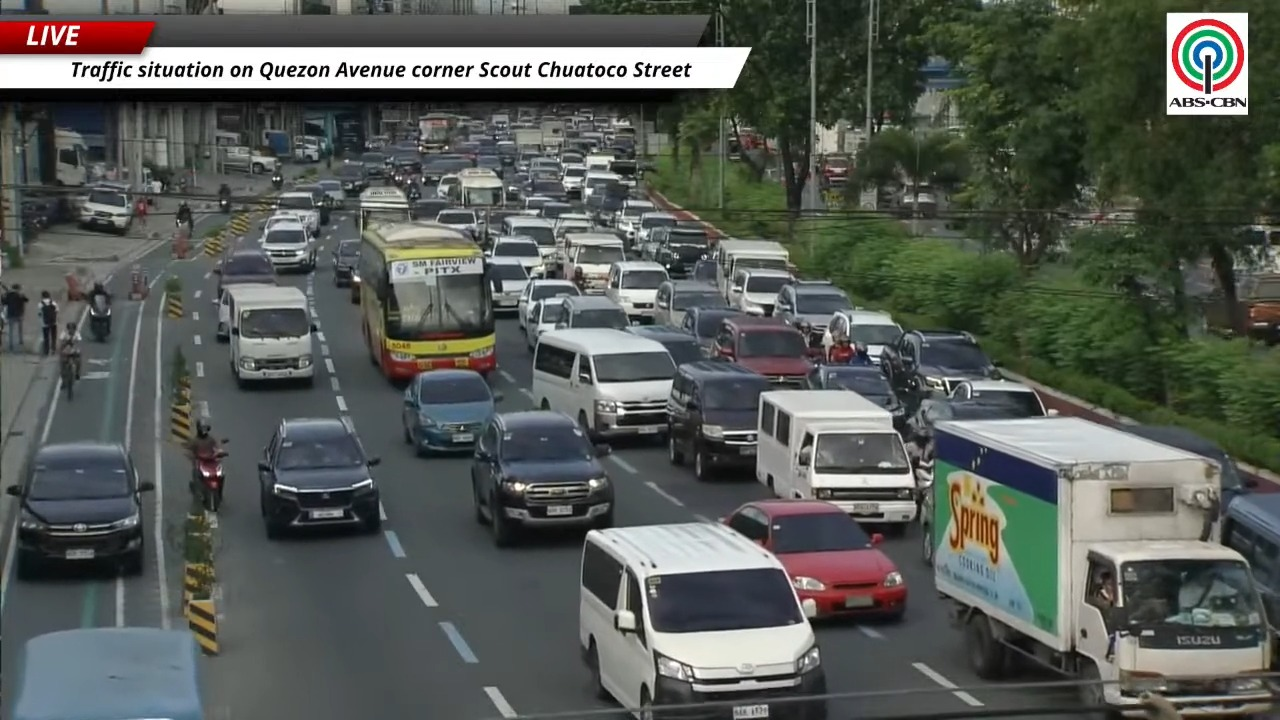bus: (359, 220, 495, 381), (453, 168, 505, 245), (356, 186, 413, 233), (457, 168, 504, 210), (419, 112, 458, 153)
car: (723, 499, 906, 619), (6, 442, 153, 578), (470, 410, 613, 546), (258, 417, 380, 539), (667, 360, 772, 480), (1117, 424, 1257, 505), (402, 369, 500, 454), (880, 330, 1001, 394), (714, 314, 811, 388), (806, 365, 906, 432), (904, 397, 1026, 447), (773, 280, 853, 346), (822, 308, 902, 362), (949, 380, 1056, 416), (212, 249, 276, 304), (654, 279, 725, 326), (680, 306, 743, 357), (624, 325, 704, 365), (517, 279, 581, 328), (726, 267, 791, 315), (650, 226, 709, 276), (261, 221, 316, 271), (556, 295, 629, 329), (486, 257, 529, 311), (524, 296, 566, 351), (275, 190, 322, 237), (487, 236, 542, 275), (613, 199, 656, 244), (630, 212, 676, 254), (294, 184, 333, 225), (259, 211, 304, 244), (435, 208, 478, 238), (331, 240, 359, 286), (336, 163, 368, 196), (411, 197, 448, 220), (315, 179, 344, 207), (689, 258, 717, 284), (538, 201, 573, 221)
motorcycle: (192, 448, 227, 513), (88, 294, 111, 342), (60, 353, 77, 401), (175, 215, 192, 235), (219, 196, 231, 214), (271, 174, 283, 190)
truck: (922, 417, 1271, 715), (54, 128, 89, 186), (539, 120, 564, 150), (513, 128, 542, 150)
